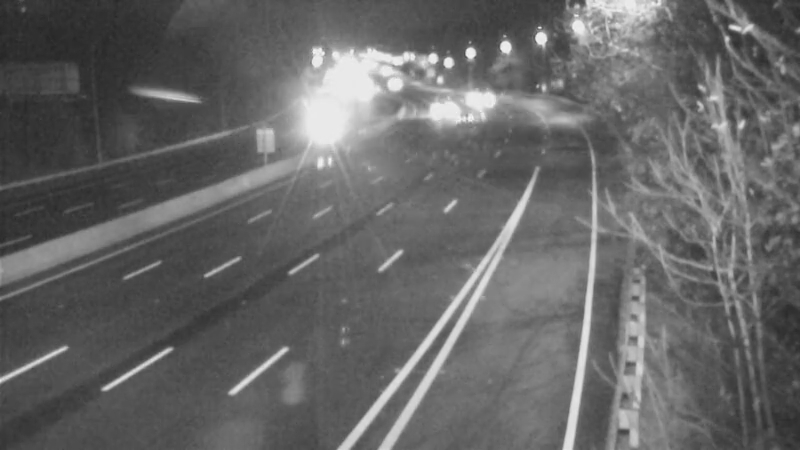vehicle: (371, 61, 421, 111), (458, 68, 508, 118), (412, 82, 462, 132), (437, 88, 487, 138), (297, 94, 347, 144)
